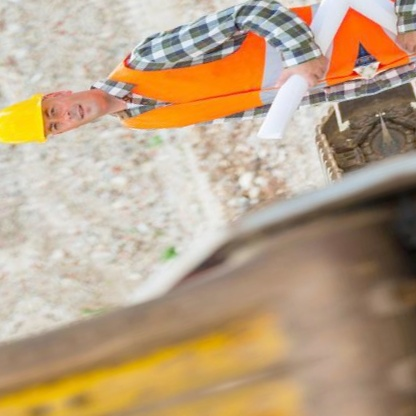vest: (92, 0, 366, 156)
yellow: (0, 87, 67, 159)
